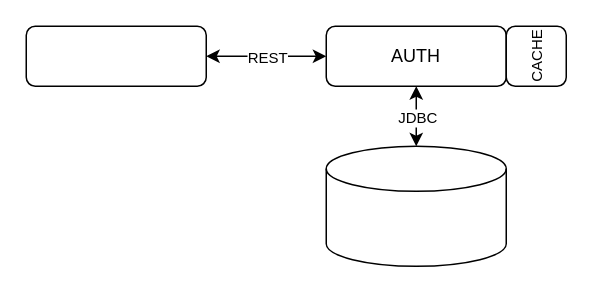
Image size: 593x293. Some labels were removed from this diagram. Each missing label, with the centre of its shape:
"APISIX" goes at pixel 115 55.
"AUTH DB ORACLE" goes at pixel 415 205.
